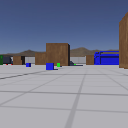blue_basket: (95, 50, 119, 66)
blue_cube: (45, 62, 54, 70), (26, 62, 31, 67)
green_basket: (1, 55, 3, 65)
green_cube: (56, 62, 60, 67), (73, 62, 76, 66)
obstacle: (119, 10, 128, 69), (46, 43, 70, 65), (35, 52, 46, 65), (13, 55, 25, 65), (85, 54, 95, 65)
red_cube: (10, 63, 13, 66), (5, 63, 9, 65)
